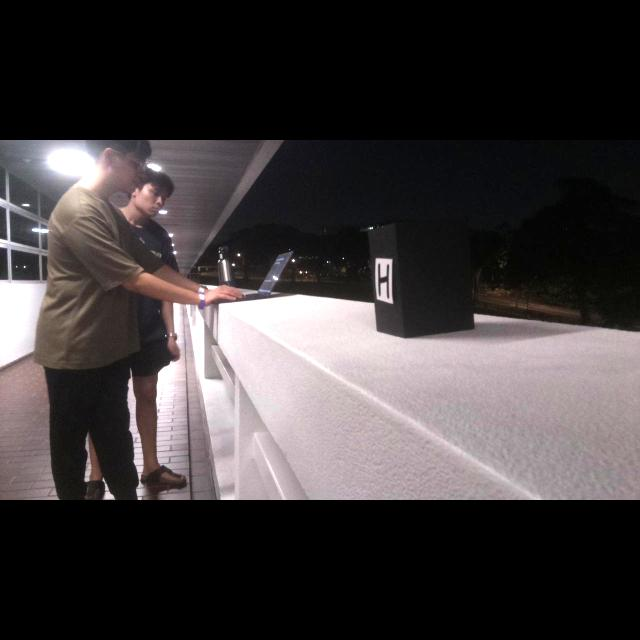H: (378, 263, 390, 299)
